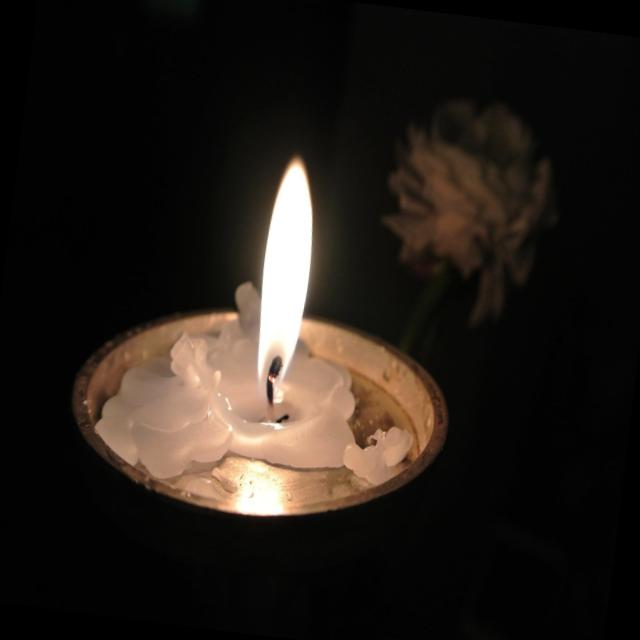Fire_Save: (62, 129, 477, 542), (244, 150, 324, 408)
